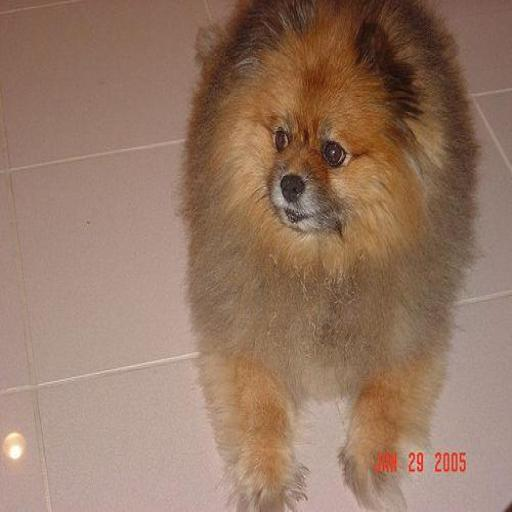dog_face: (231, 13, 423, 240)
